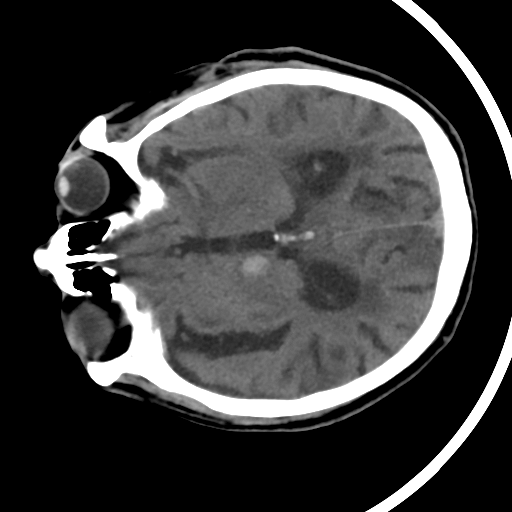a: (226, 247, 280, 311)
